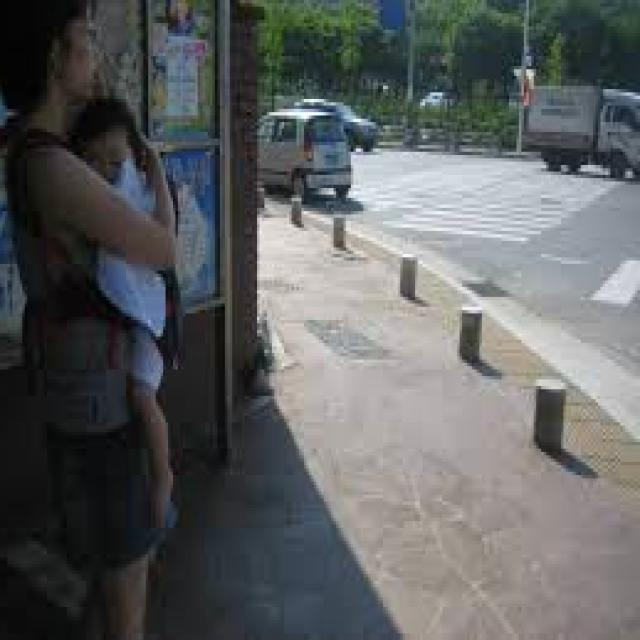bollard: (530, 379, 569, 446), (457, 302, 486, 361), (397, 250, 421, 294), (330, 212, 349, 251), (286, 193, 305, 230), (256, 177, 267, 216)
